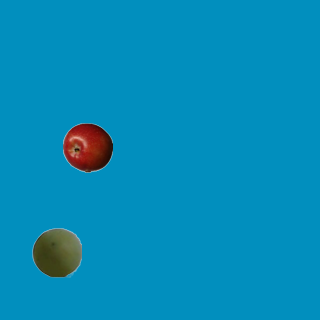Apple Braeburn: (62, 122, 112, 172)
Grape White 4: (31, 227, 81, 277)
